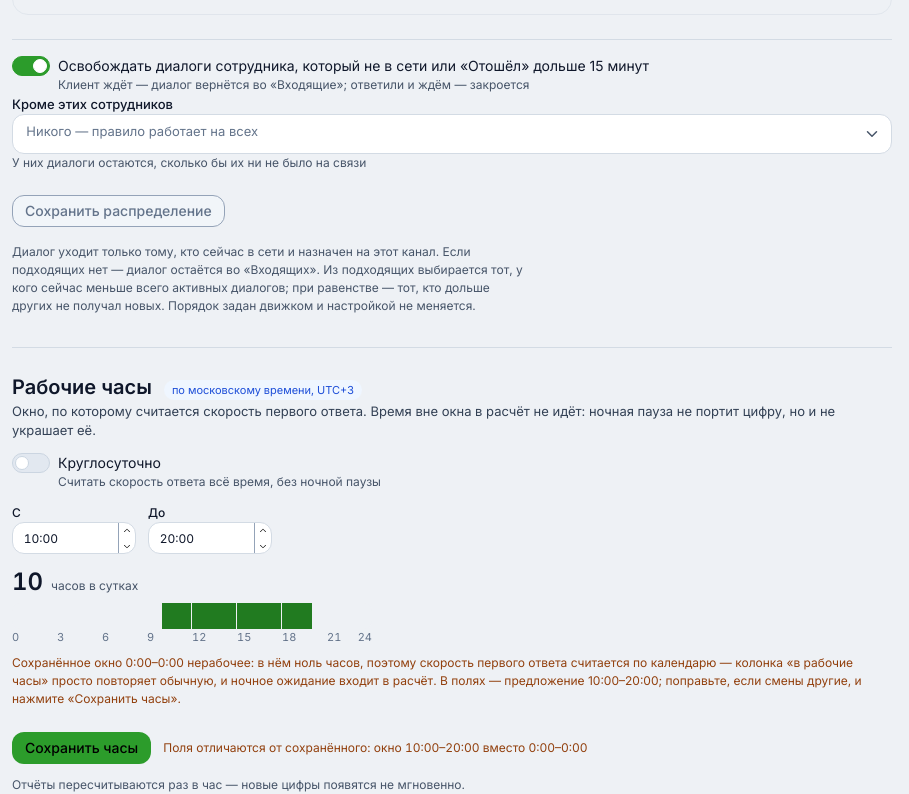
Test: Настройки распределения › починка сохранённого окна доезжает до сервера
(page scrolled)
Expected: the field named "Начало рабочего дня, час по Москве" is shown, x1=12 y1=522 x2=136 y2=554
Click the button "Сохранить часы".
click(82, 748)  # box x1=12 y1=732 x2=151 y2=764
(page scrolled)
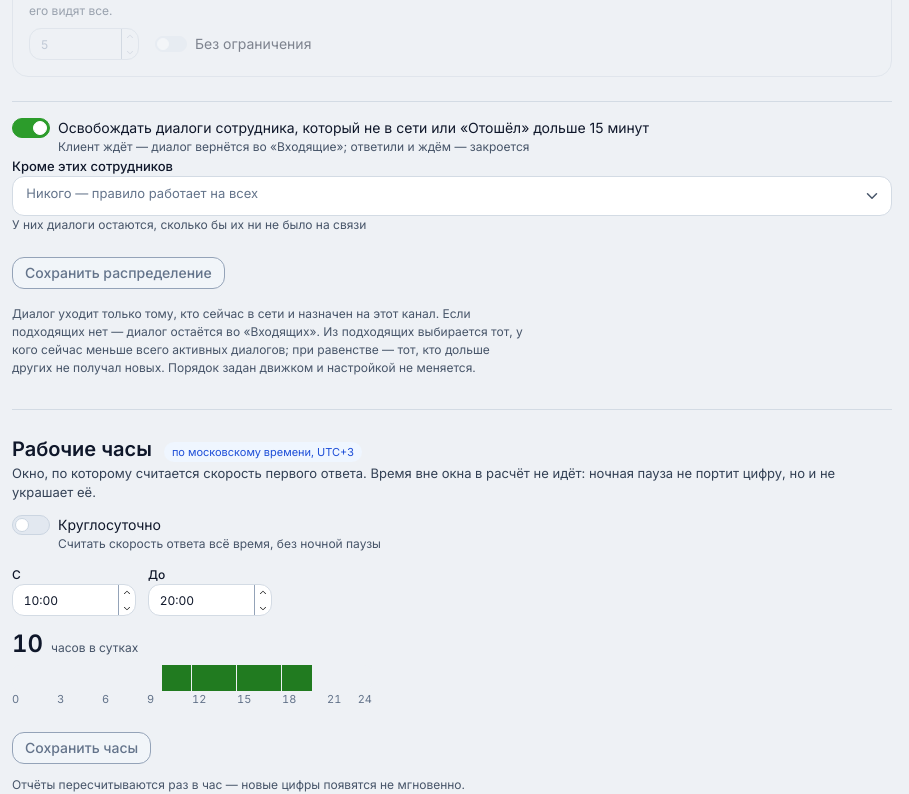
Expected: the text "Сохранённое окно" is gone
